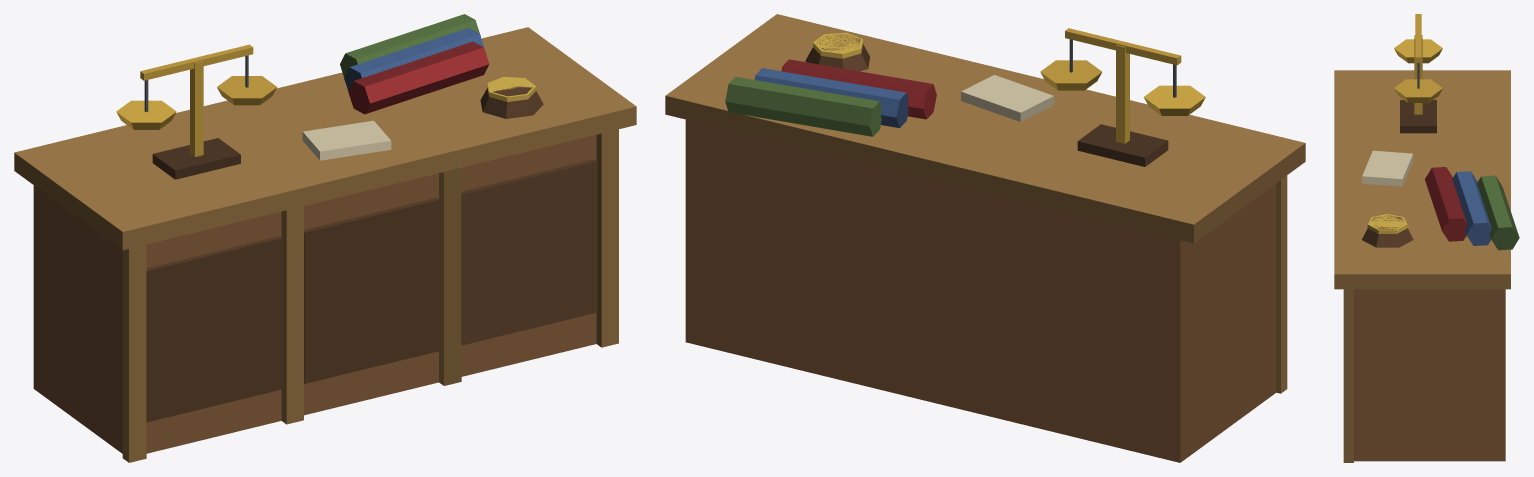
The model's file is shop_counter.glb.
3 views of the same model, side by side, from view 1: azimuth 30°, elevation 25°; view 2: azimuth 150°, elevation 25°; view 3: azimuth 270°, elevation 25° (orthographic). The views are drawn at different scales.
Visible parts, largest first — view 1: shop_counter; view 2: shop_counter; view 3: shop_counter.
Part boxes in pixels (x1,y1,x2,y2): shop_counter: (14, 14, 636, 462); shop_counter: (665, 14, 1305, 462); shop_counter: (1334, 14, 1519, 462).
Size of the model in its own units: 2.35 by 1.49 by 0.9028.
